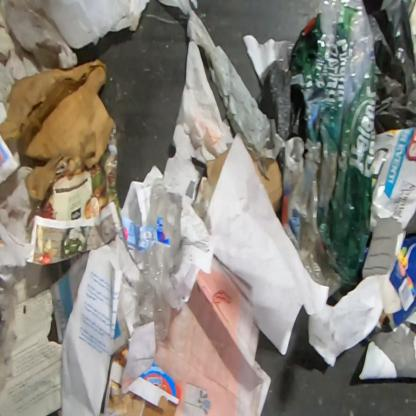cardboard: (0, 57, 115, 203), (361, 126, 415, 282), (162, 124, 234, 206), (103, 343, 184, 415), (375, 233, 415, 332), (260, 60, 306, 142), (254, 159, 284, 214)
rigid_plastic: (0, 262, 54, 394)
soft_plastic: (282, 0, 378, 301), (157, 0, 288, 178), (133, 182, 183, 343), (367, 0, 416, 135), (23, 0, 150, 50)
